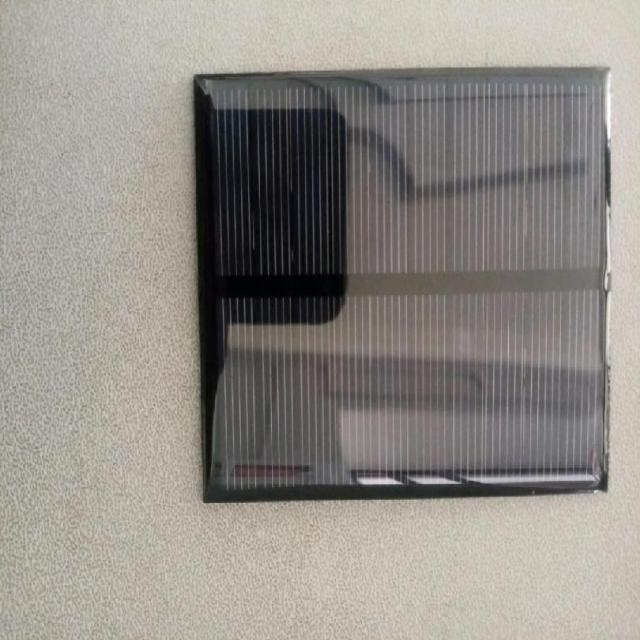no faulty: (194, 65, 604, 492)
